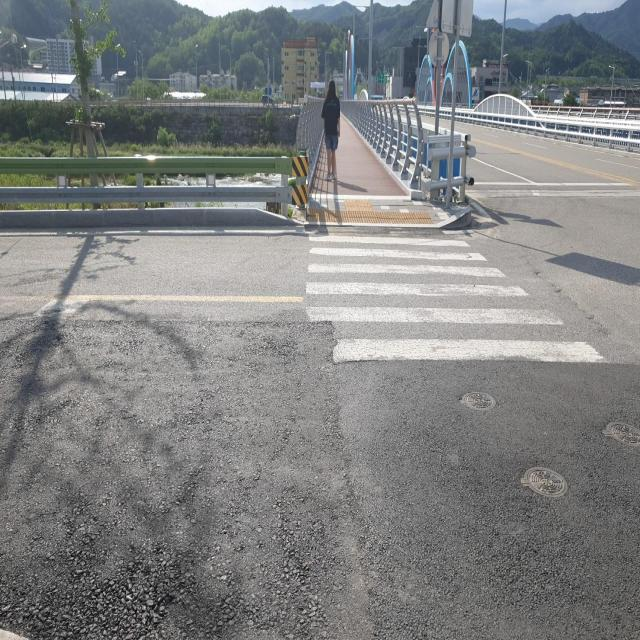횡단보도: (304, 233, 611, 367)
